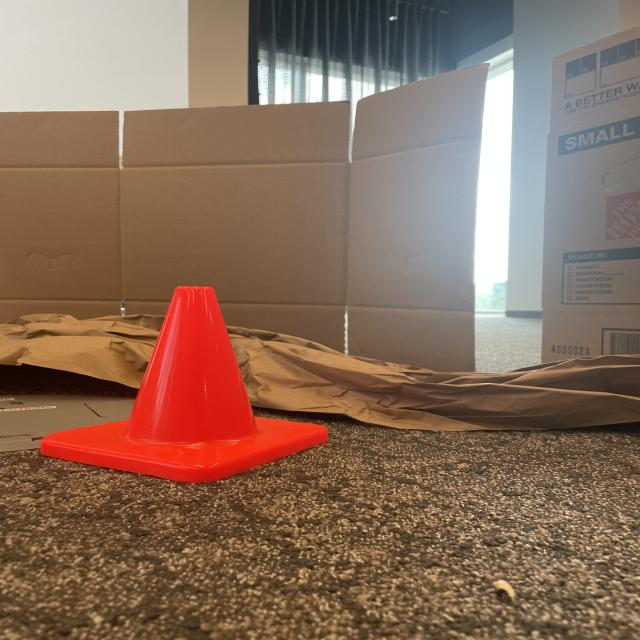Traffic Cone: (42, 282, 326, 482)
